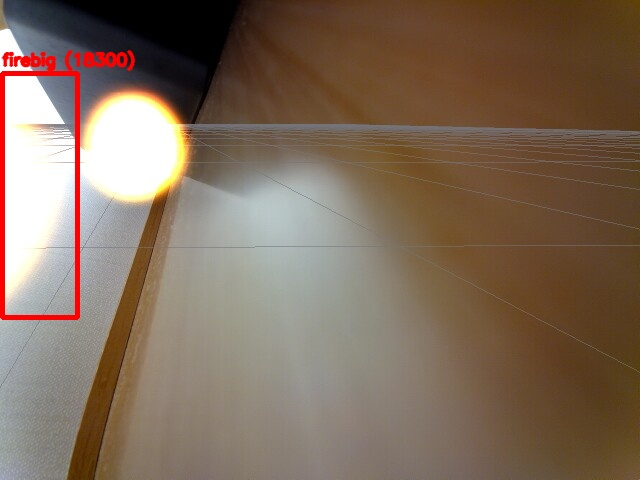firebig: (2, 73, 77, 317)
